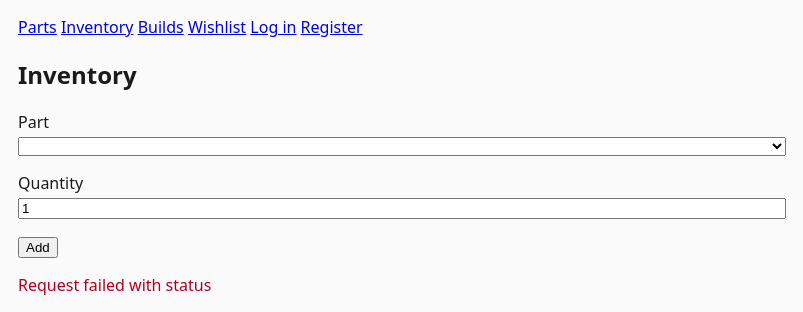
Test: App routes › the Parts link shows its page
Click the link "Parts" at (37, 27), box [18,16,57,38]
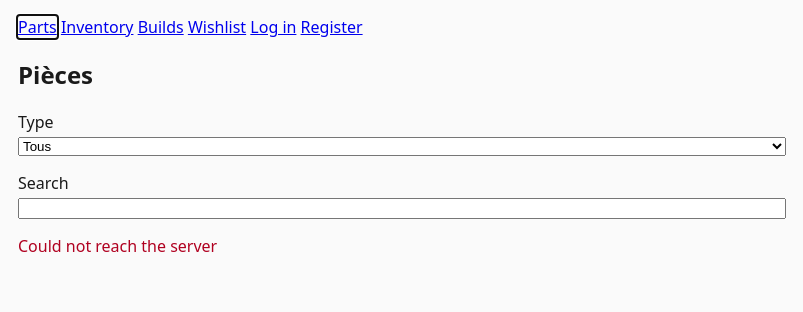
Check: the heading "Pièces" is shown, box [18,58,93,91]
